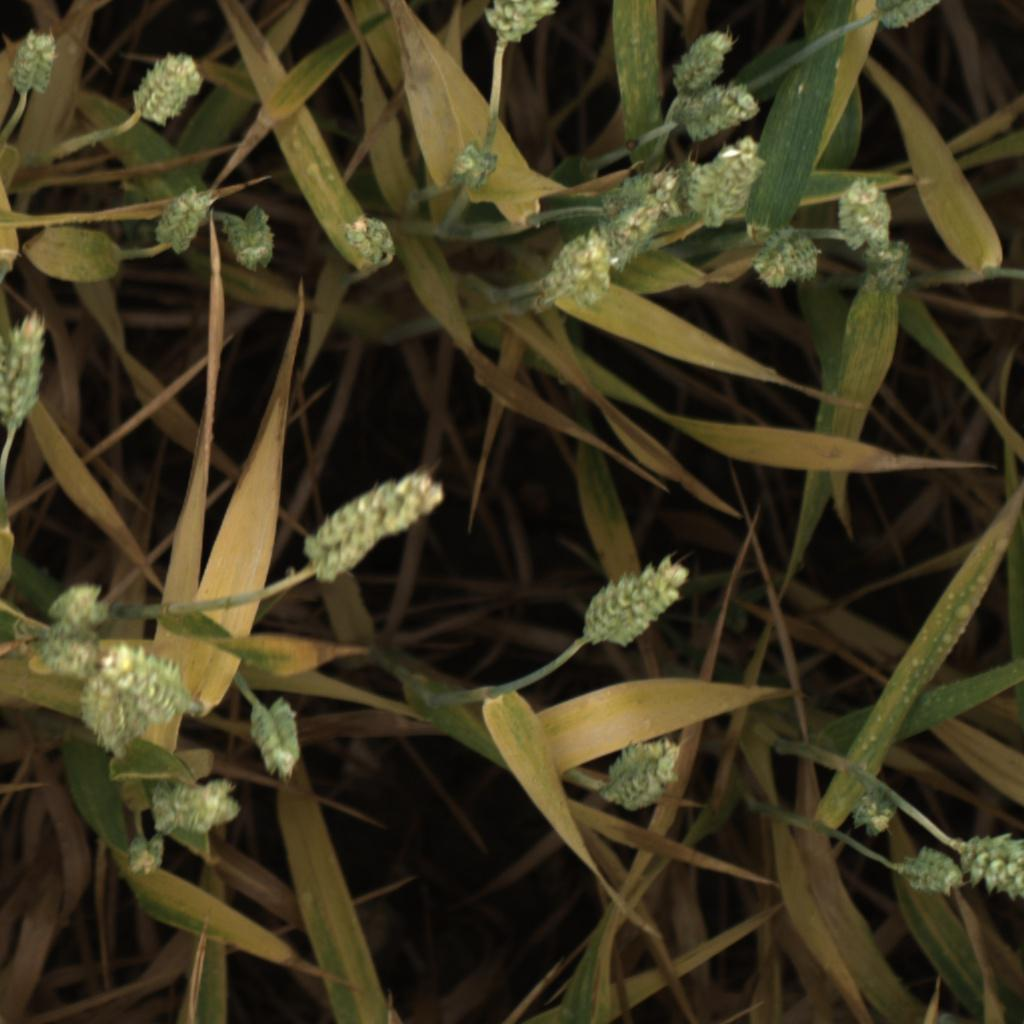0-0: (300, 462, 448, 588), (576, 549, 696, 651), (96, 638, 195, 732), (596, 172, 679, 273), (681, 134, 768, 229), (596, 158, 707, 231), (10, 613, 110, 690), (537, 225, 617, 319), (595, 734, 682, 819), (0, 306, 57, 429), (71, 670, 152, 756), (247, 692, 314, 792), (127, 49, 202, 137), (747, 219, 828, 292), (148, 178, 220, 259), (963, 828, 1024, 923), (833, 172, 900, 258), (674, 79, 767, 139), (168, 771, 248, 838), (4, 21, 72, 98), (219, 202, 284, 275), (44, 575, 121, 634), (334, 213, 404, 277), (896, 839, 964, 904), (444, 132, 510, 197), (475, 0, 569, 45), (855, 234, 916, 302), (671, 22, 737, 82), (847, 777, 906, 844), (113, 826, 179, 881), (867, 0, 963, 35)
